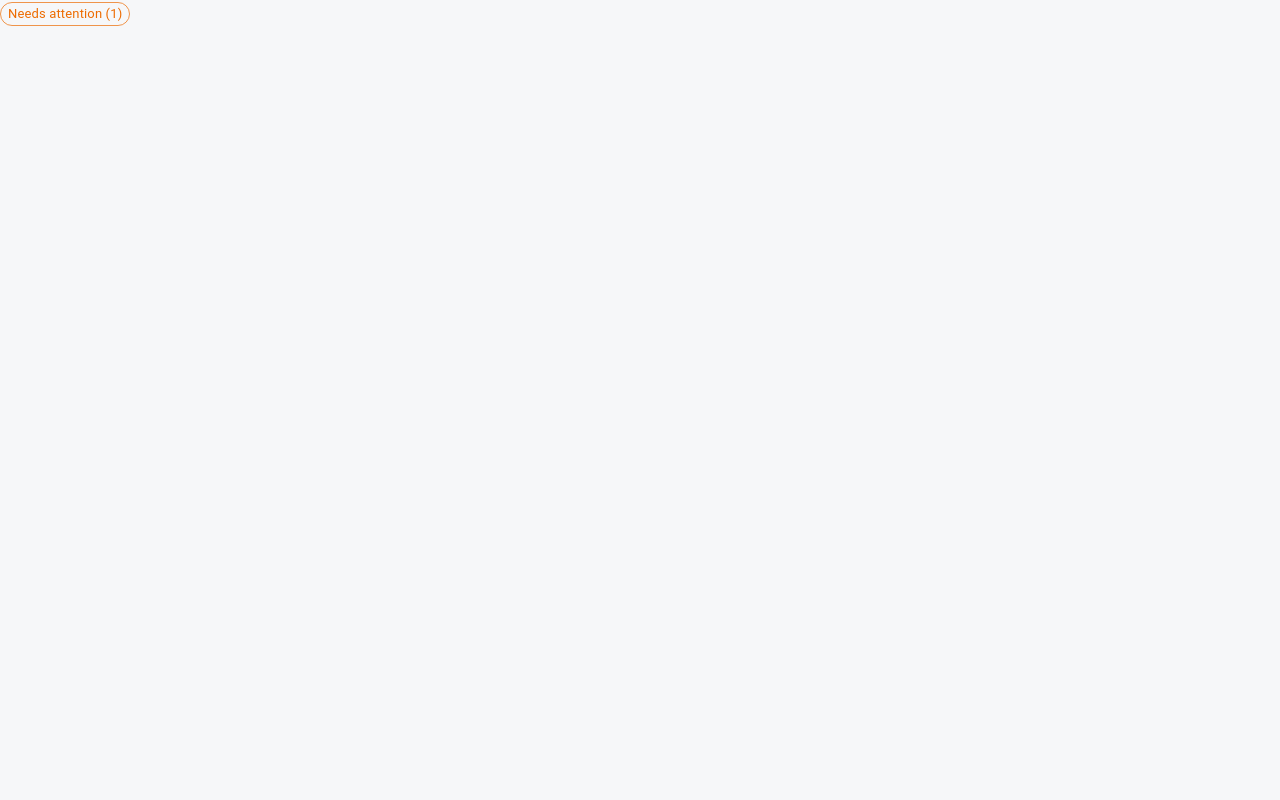
Test: HealthChip › a stale reading is labelled stale rather than presented as current
The width and height of the screenshot is (1280, 800).
Click the button with test id "health-chip" at (65, 14), box [0,2,130,26]
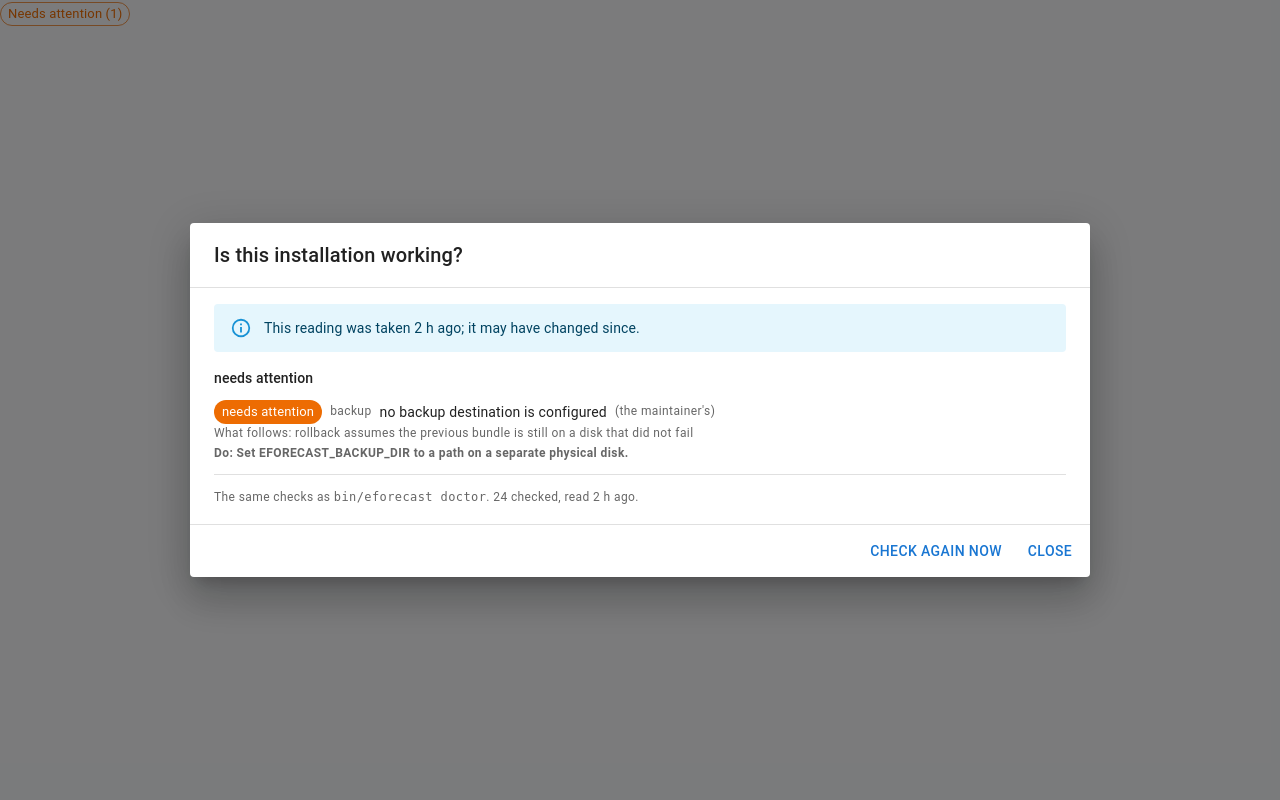
Now the message with test id "health-stale" shows "2 h ago", box [414,320,461,336]
